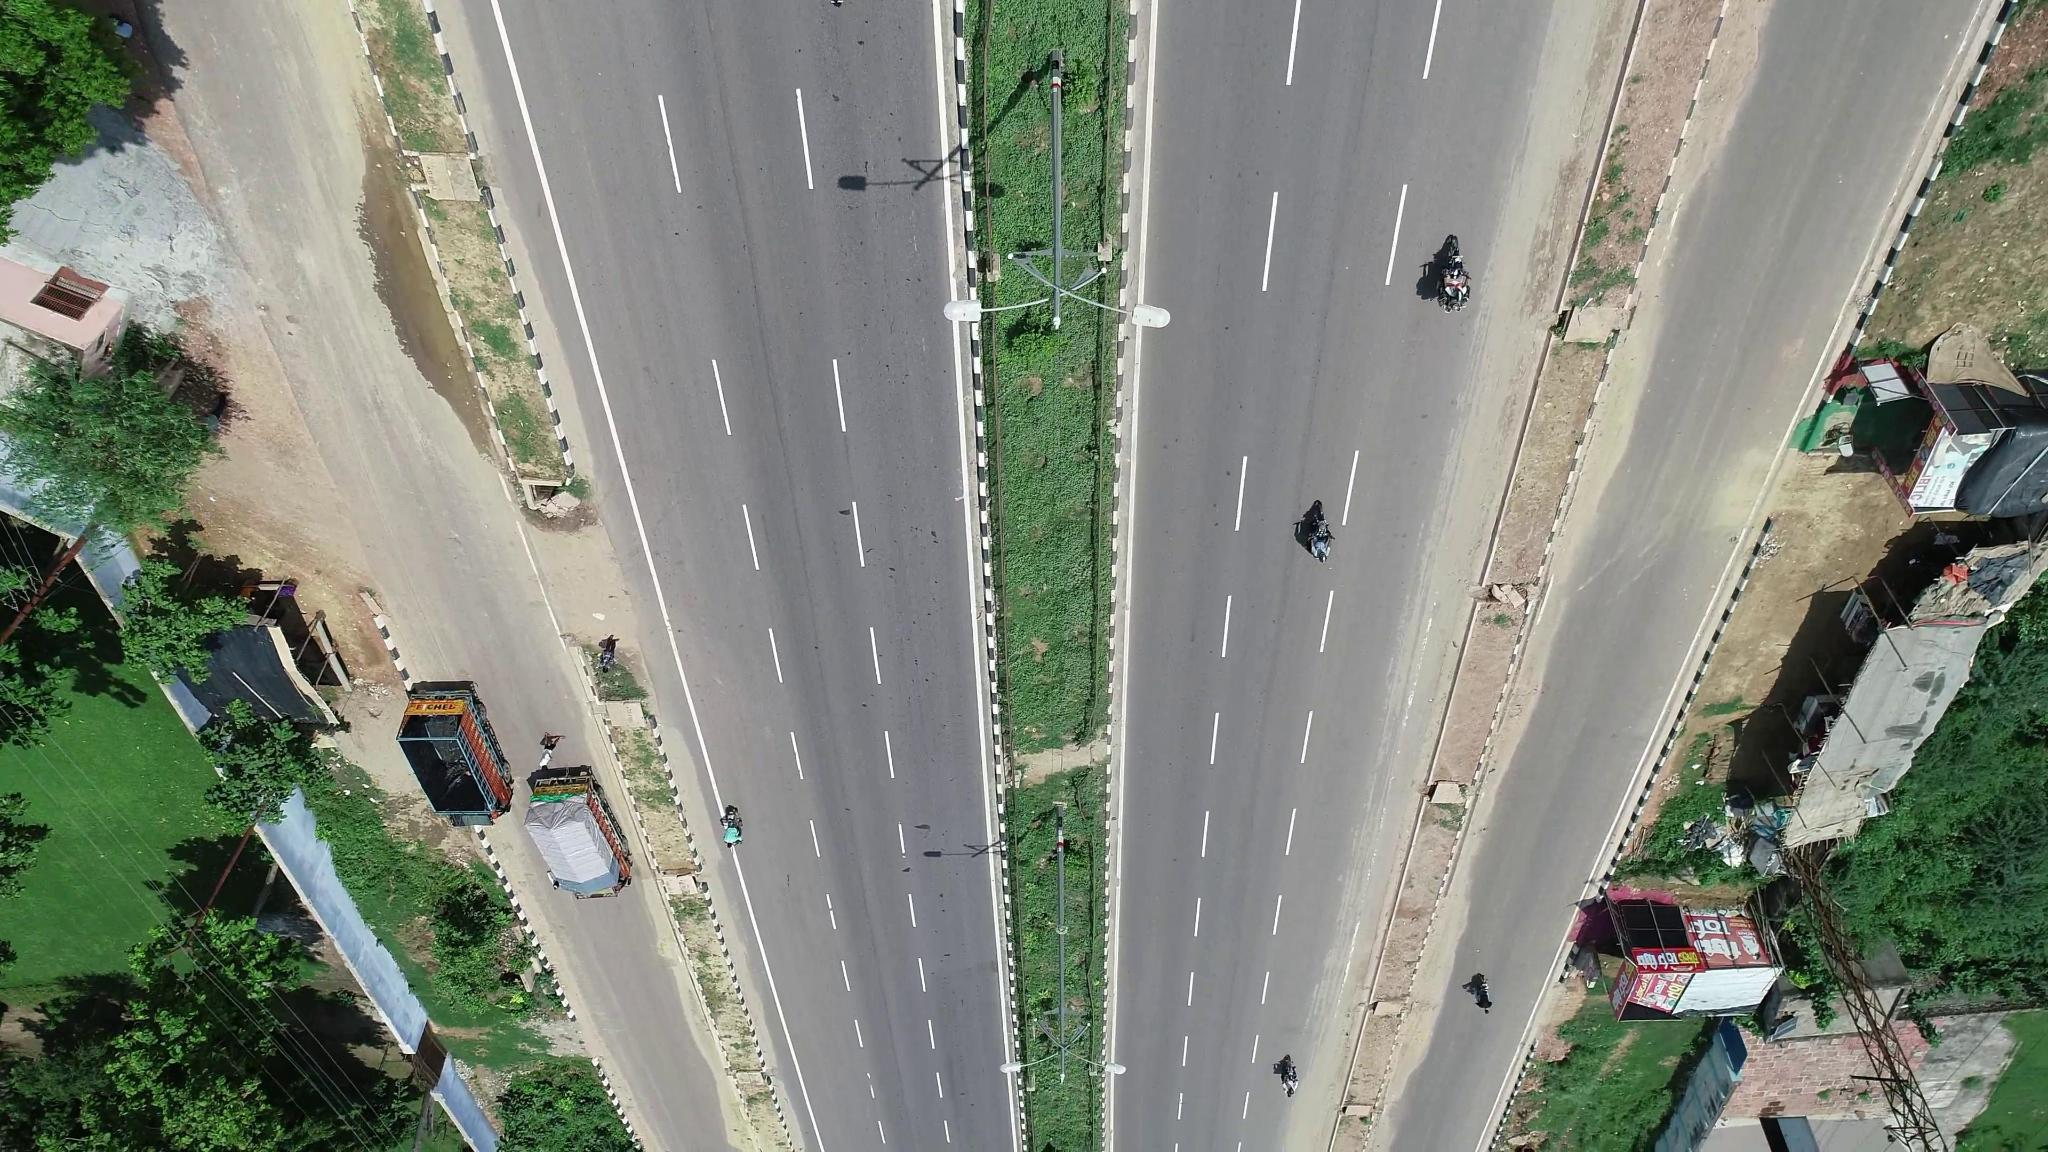Muddy_road: (359, 232, 453, 369)
